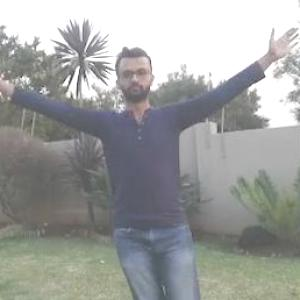takeoff: (1, 27, 299, 299)
